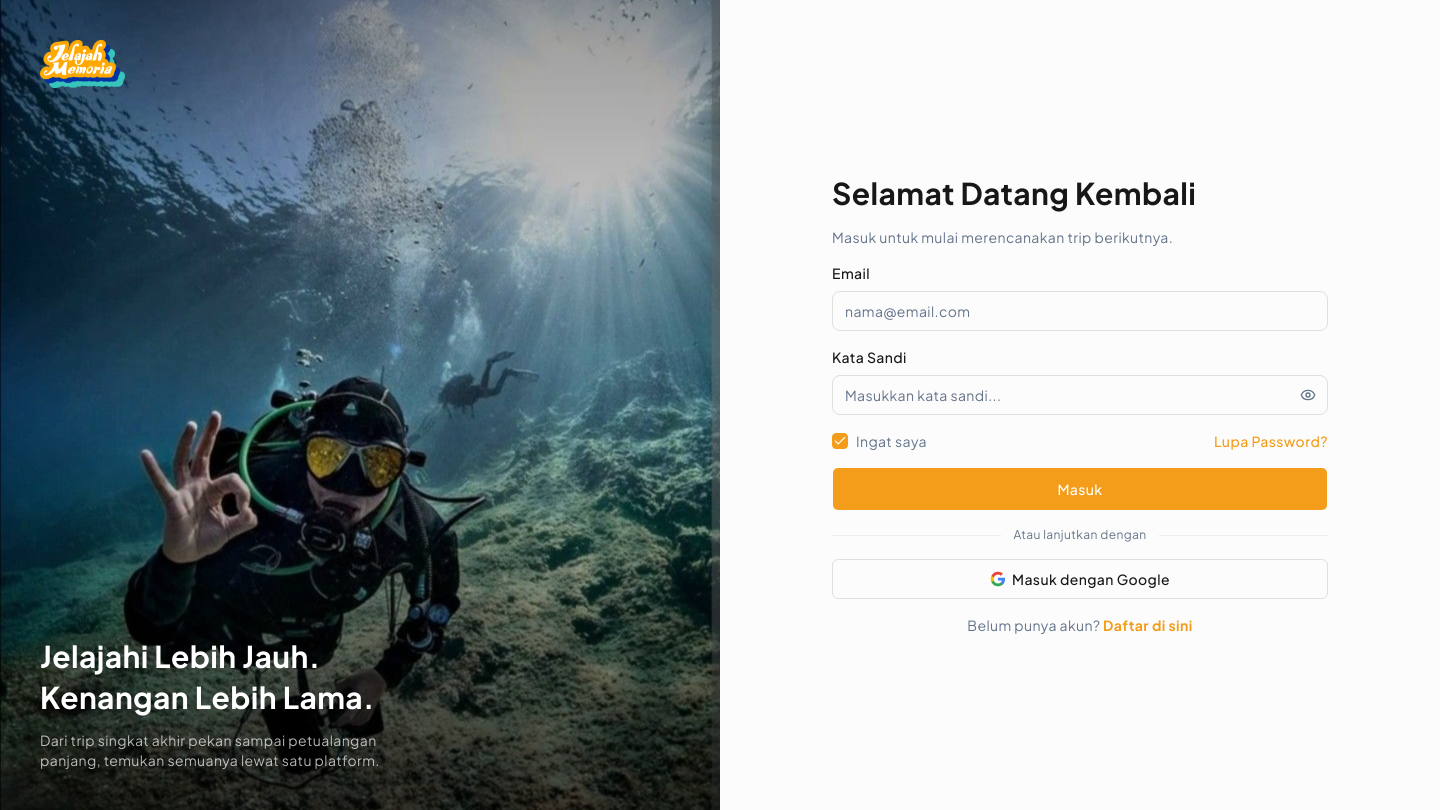
Test: LoginForm validasi › menampilkan pesan error per-field saat submit kosong
What coordinates should you click on to do the following:
click the button "Masuk"
I would click on:
 (1080, 489)
Its box is x1=832 y1=467 x2=1328 y2=511.
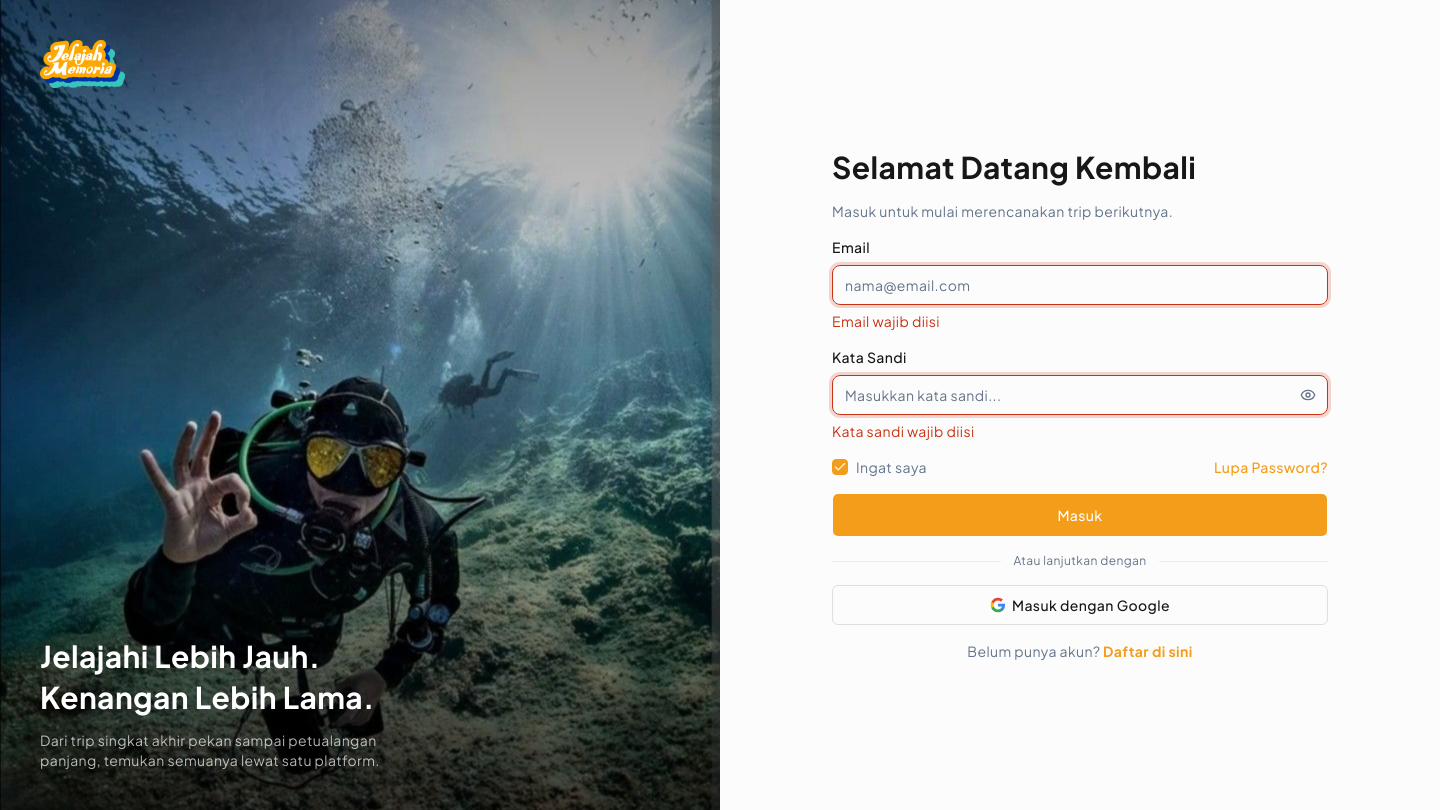
Now the text "Email wajib diisi" is shown, box x1=832 y1=312 x2=940 y2=330
Now the text "Kata sandi wajib diisi" is shown, box x1=832 y1=422 x2=974 y2=440
